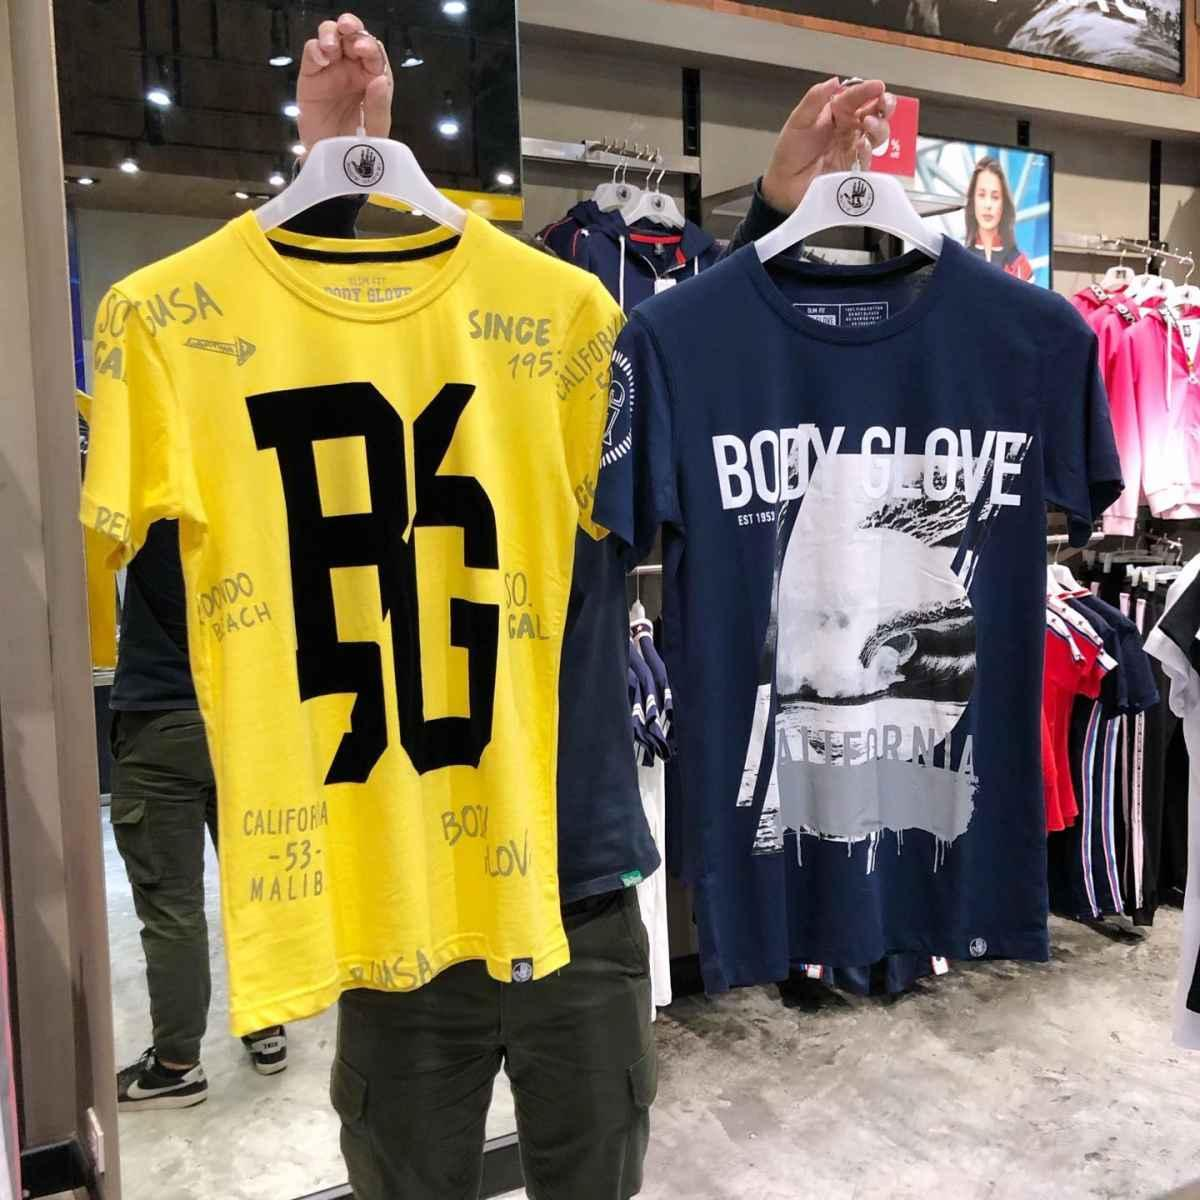Tshirt: (43, 231, 665, 1015), (574, 201, 1130, 987)
